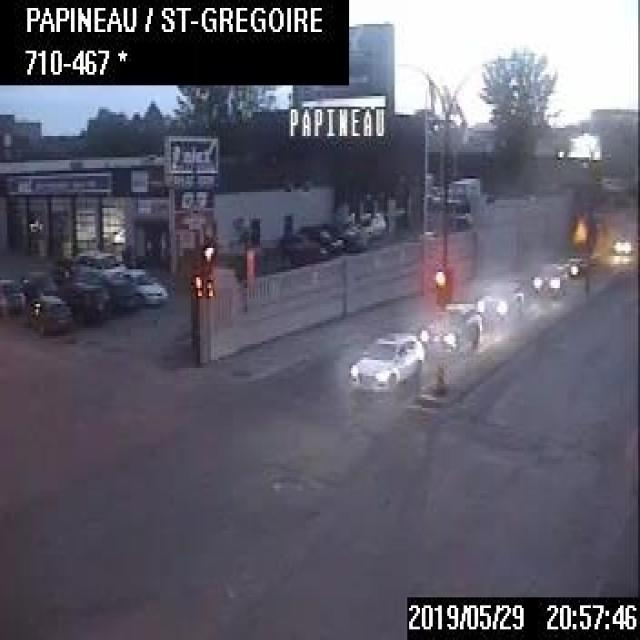vehicle: (347, 331, 421, 389), (419, 298, 481, 357), (476, 276, 522, 321), (58, 279, 106, 322), (26, 292, 70, 334), (123, 266, 169, 305), (443, 174, 481, 220), (281, 229, 325, 266), (71, 248, 124, 274), (21, 268, 57, 297), (0, 276, 24, 316), (528, 265, 562, 293), (558, 254, 584, 279), (611, 235, 638, 253)
